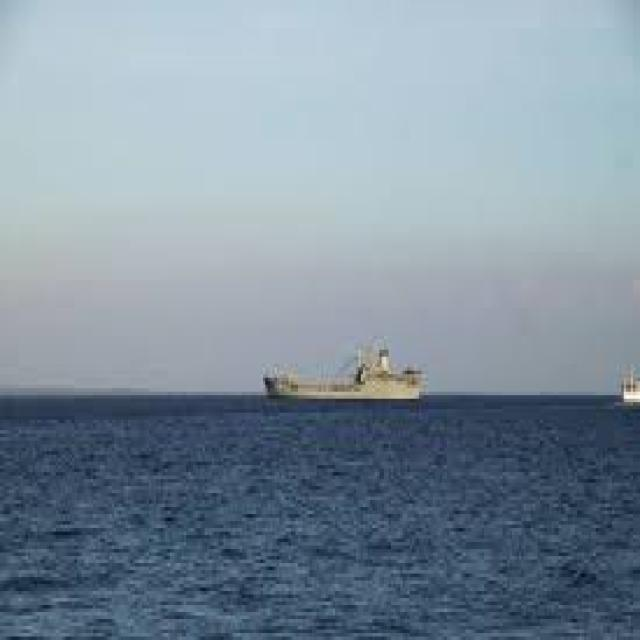cargoship: (257, 335, 422, 401)
